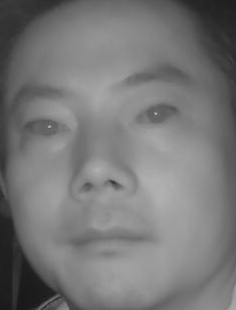eye: (130, 101, 182, 134), (23, 113, 74, 145)
mouth: (69, 213, 154, 264)
